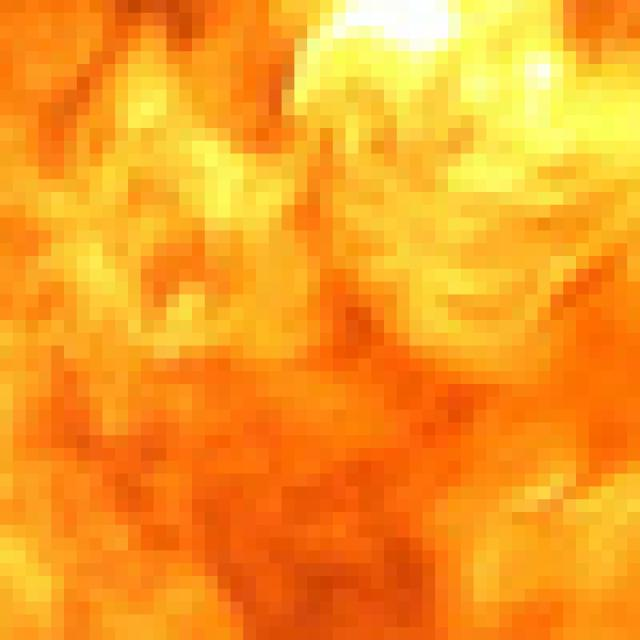fire: (4, 10, 598, 591)
